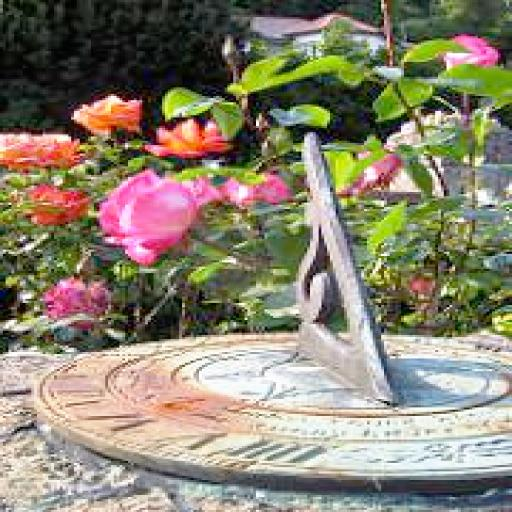rose: (96, 171, 190, 256), (142, 119, 233, 156), (71, 94, 142, 132)
